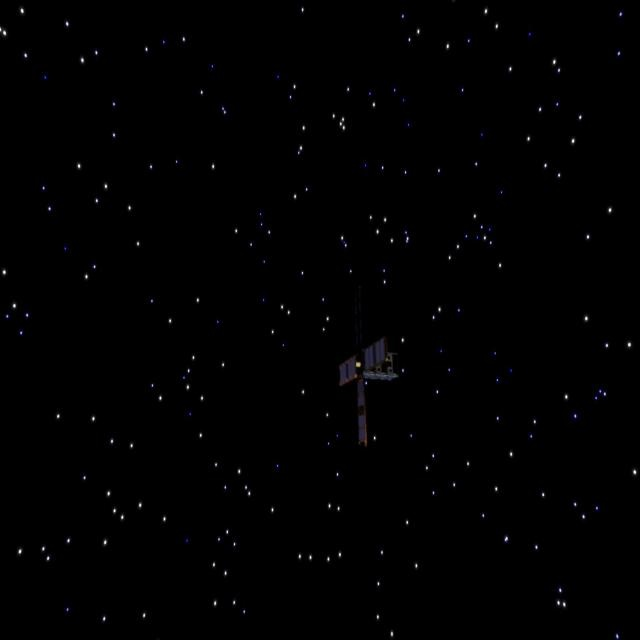medium_debris: (333, 320, 407, 458)
